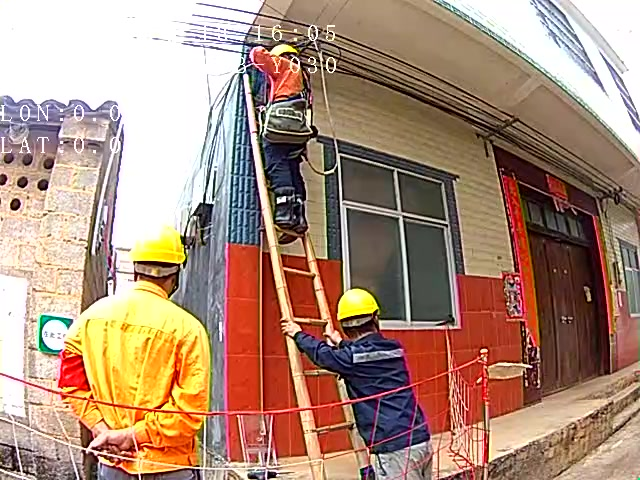badge: (57, 346, 91, 392)
downsuit: (256, 136, 309, 195)
halt: (128, 224, 189, 296), (337, 287, 382, 339), (269, 43, 302, 71)
hand: (87, 424, 136, 463), (281, 313, 301, 342), (325, 329, 343, 342)
person: (64, 222, 222, 480), (292, 286, 441, 480), (234, 40, 319, 234)
shoe: (271, 185, 309, 243)
support: (279, 285, 434, 480)
upsuit: (296, 329, 427, 450)
worksign: (37, 312, 76, 355)
yupsuit: (69, 283, 210, 465), (246, 49, 318, 124)
